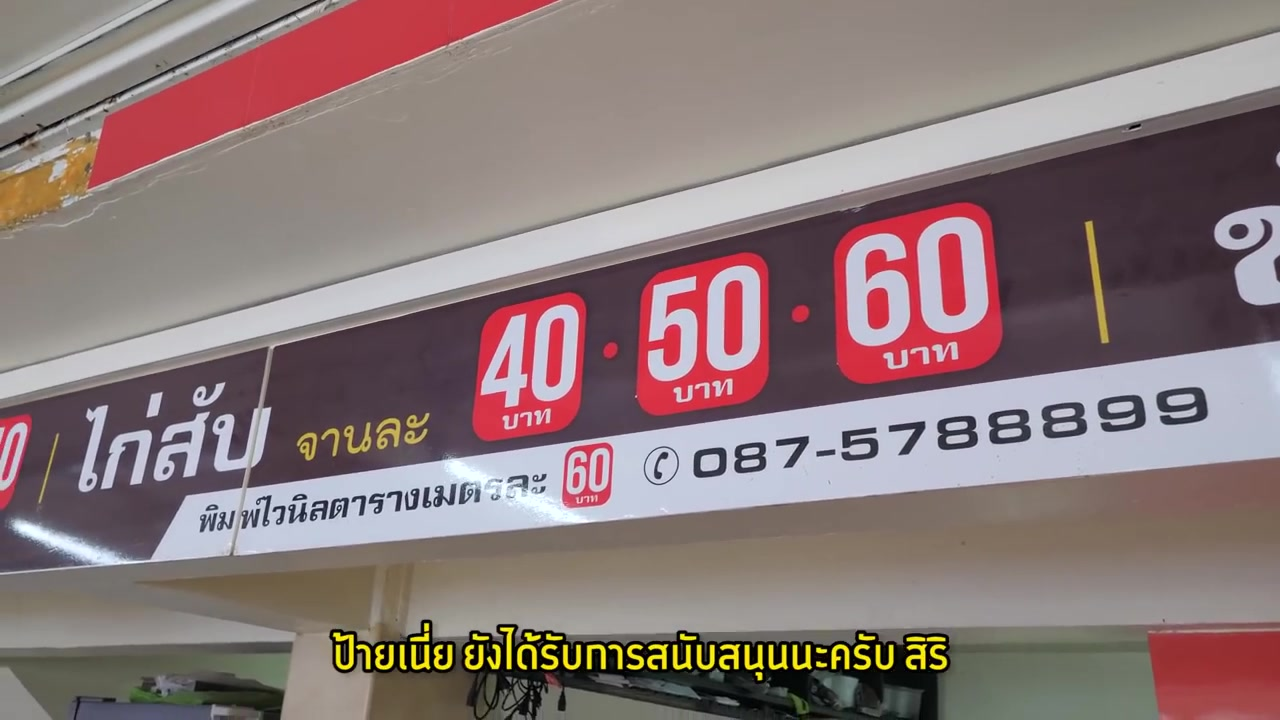text-label: (75, 378, 436, 498), (329, 619, 952, 681), (192, 462, 556, 539)
